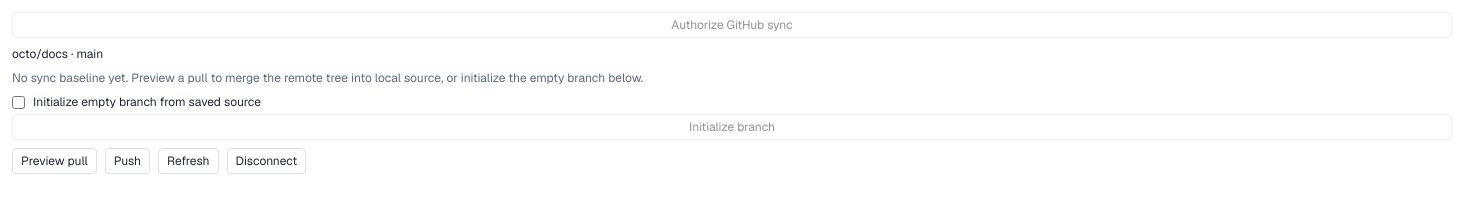
GitHubSync › initializes an empty branch only with explicit confirmation
The image size is (1464, 215).
Expected: the button "Initialize branch" is disabled, [12,114,1452,140]
Click the checkbox labelled "Initialize empty branch from saved source". click: {"x": 18, "y": 102}
box: [12,96,25,108]
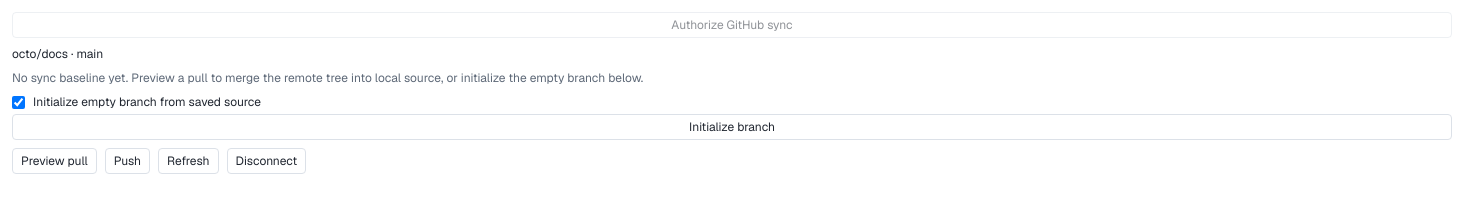
Click the button "Initialize branch". click: {"x": 732, "y": 127}
box: [12,114,1452,140]
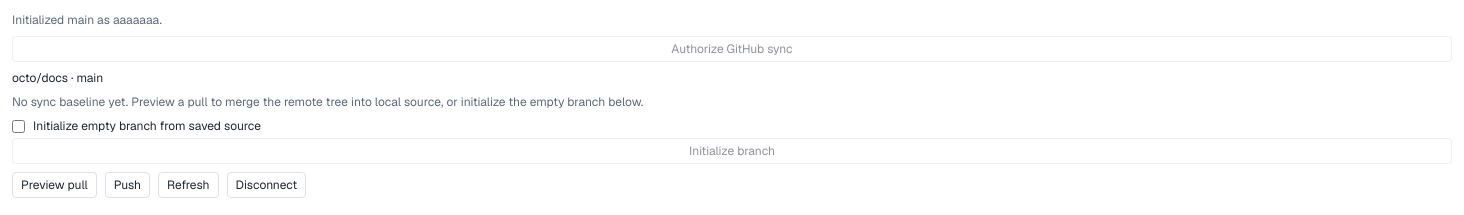
Expected: the text "Initialized main as" is shown, [12,12,162,28]
